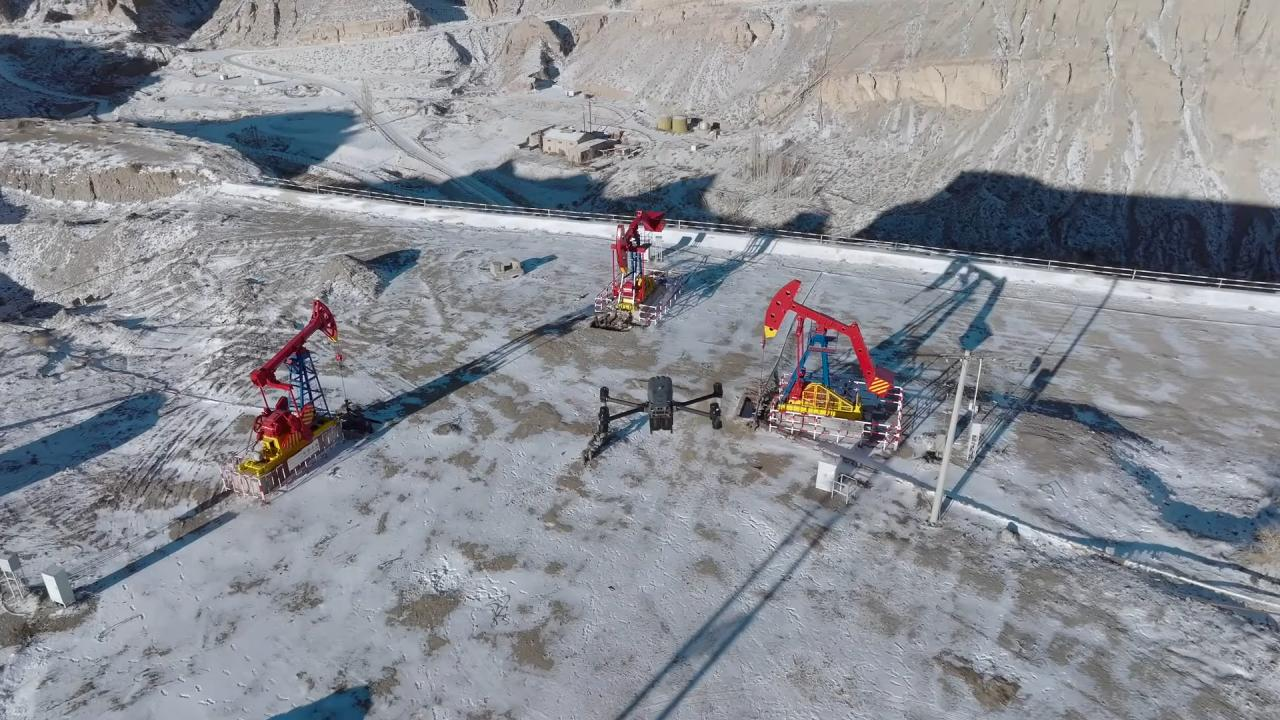Drone: (586, 366, 732, 444)
